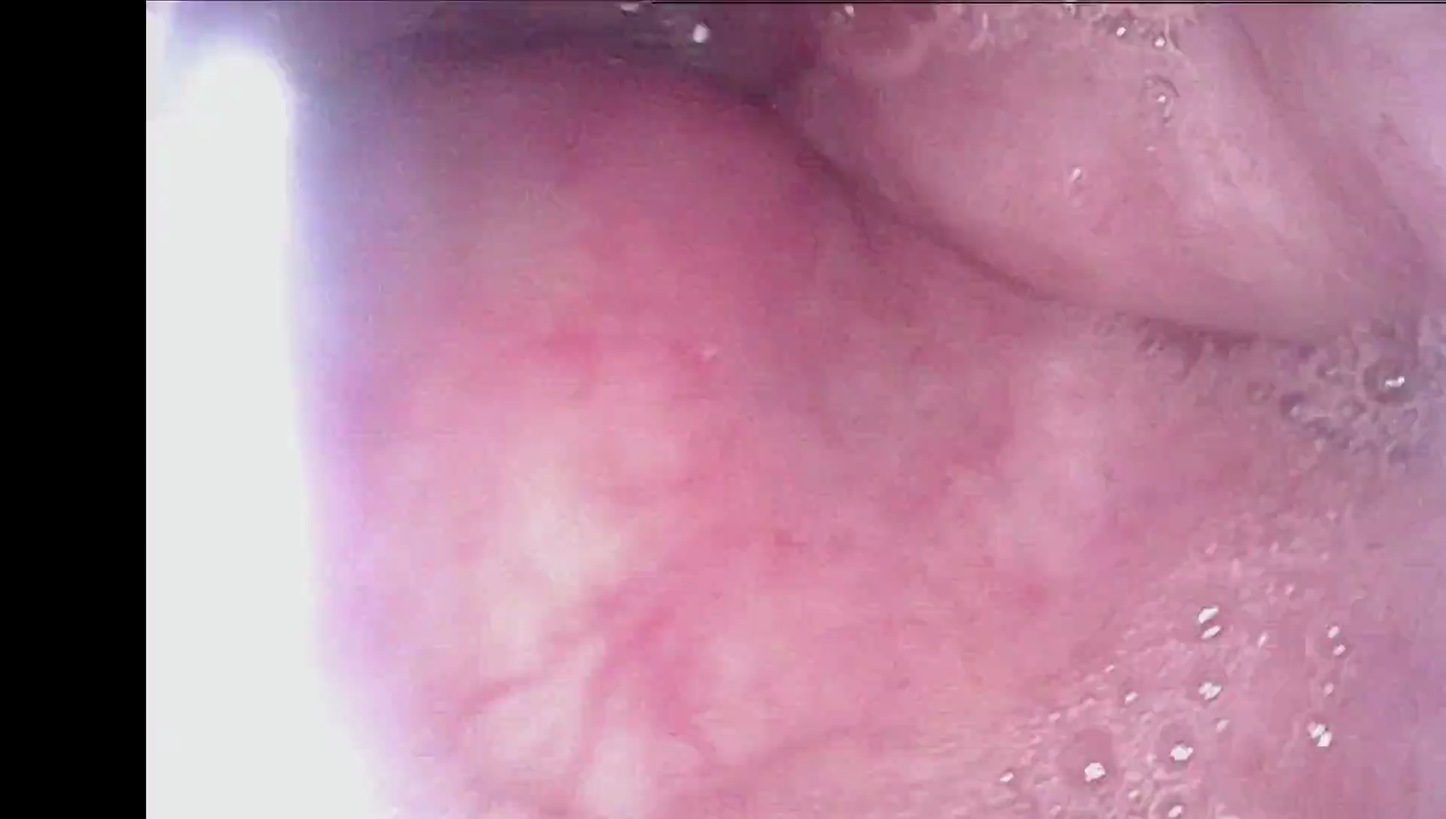close_wall: (146, 37, 457, 819)
next: (655, 10, 798, 142)
